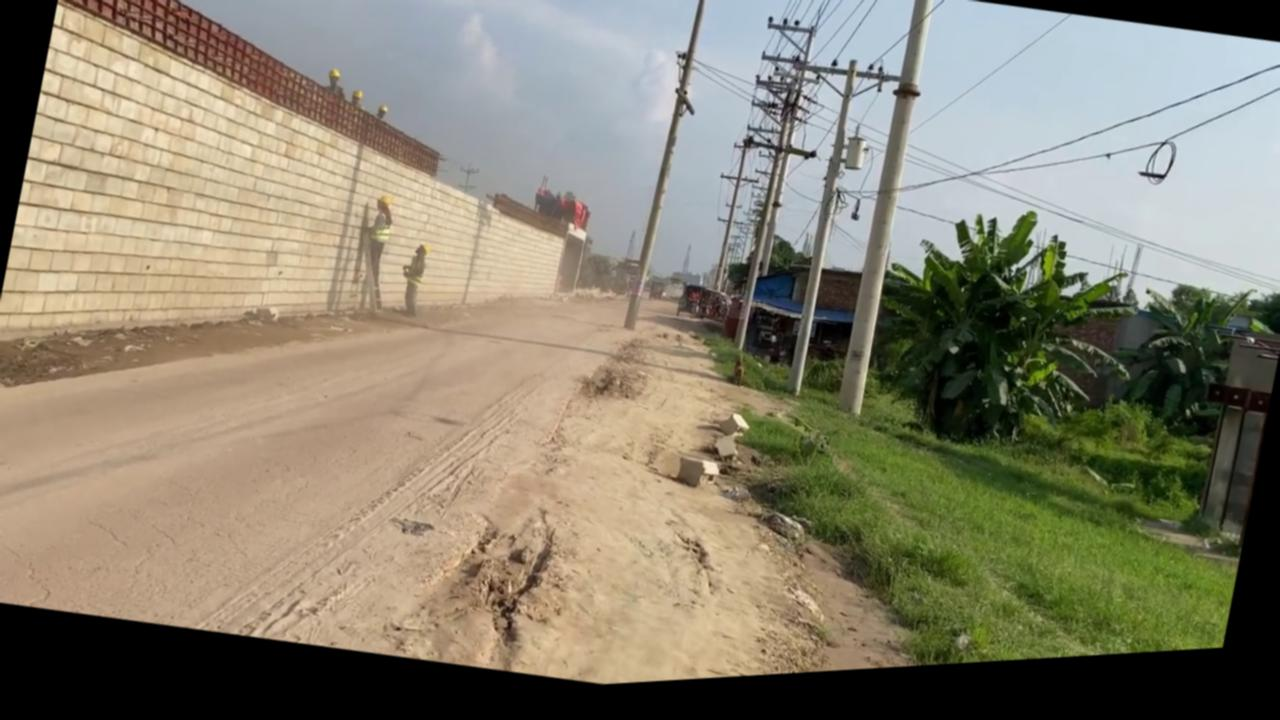Dog: (728, 363, 747, 396)
Muddy road: (0, 160, 1007, 720)
Obstacle: (652, 452, 721, 500)
Pole: (831, 2, 940, 427), (622, 0, 708, 340), (782, 68, 864, 407)
Traffic-sign: (854, 191, 1155, 487), (1099, 279, 1259, 457)
Tree: (674, 287, 730, 334)
